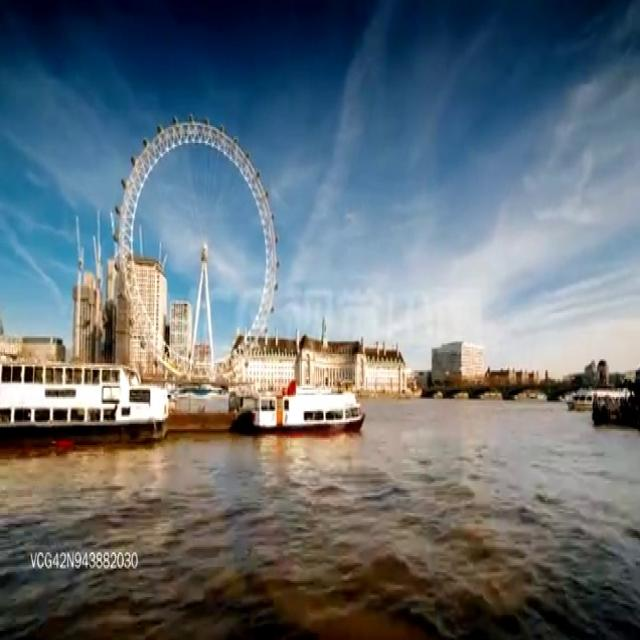passenger ship: (0, 353, 171, 441), (250, 375, 366, 432)
